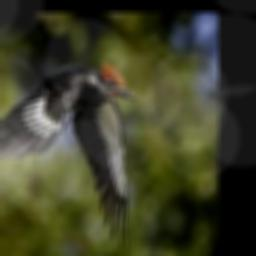Woodpecker: (0, 59, 135, 253)
